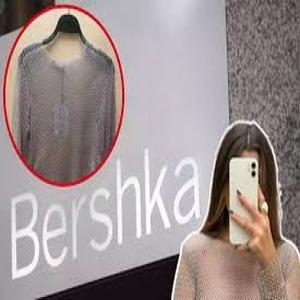bershka: (0, 130, 227, 282)
